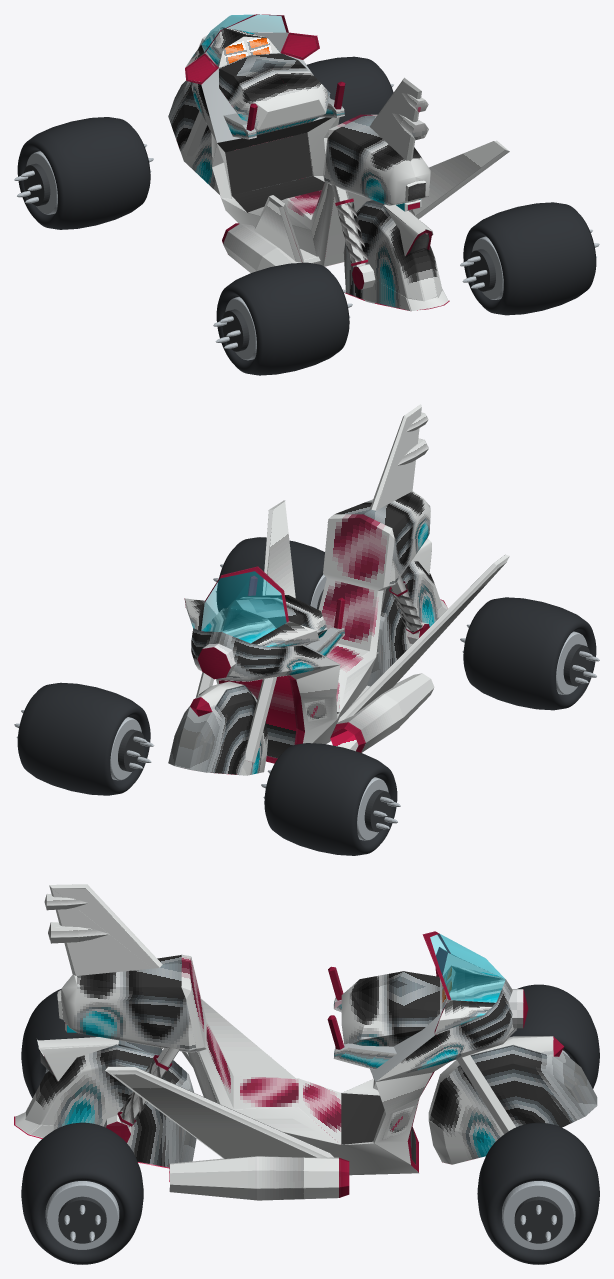
The model's file is car-hbike_v.glb.
The picture shows the model from 3 angles, top to bottom: view 1: azimuth 30°, elevation 25°; view 2: azimuth 150°, elevation 25°; view 3: azimuth 270°, elevation 25°; orthographic projection. The views are drawn at different scales.
Parts seen in each view (by area): view 1: hbike_vShape, Rounded tire.115, Rounded tire.114, Rounded tire.113, TrunkRotShape.015, Rounded tire.112, HoodRotShape.017, HoodRotShape.018, Rim recess.228, Rim recess.226, Rim recess.230, Alloy rim.115 (+3 smaller); view 2: hbike_vShape, Rounded tire.114, Rounded tire.112, Rounded tire.113, HoodRotShape.017, HoodRotShape.018, TrunkRotShape.015, Rounded tire.115, Rim recess.224, Rim recess.228, Rim recess.226, Alloy rim.114 (+2 smaller); view 3: hbike_vShape, TrunkRotShape.015, Rounded tire.115, Rounded tire.112, HoodRotShape.017, Rounded tire.113, HoodRotShape.018, Rounded tire.114, Alloy rim.115, Alloy rim.112, Rim recess.231, Rim recess.225.
Boxes of the visible parts, x1,y1,x2,y2 form: hbike_vShape: (168, 27, 509, 289); Rounded tire.115: (463, 202, 596, 315); Rounded tire.114: (216, 262, 349, 375); Rounded tire.113: (17, 117, 150, 229); TrunkRotShape.015: (343, 200, 449, 311); Rounded tire.112: (307, 56, 393, 124); HoodRotShape.017: (185, 14, 319, 100); HoodRotShape.018: (201, 14, 285, 51); Rim recess.228: (222, 309, 249, 351); Rim recess.226: (23, 163, 50, 206); Rim recess.230: (469, 249, 495, 291); Alloy rim.115: (472, 236, 503, 299); hbike_vShape: (168, 404, 509, 775); Rounded tire.114: (463, 597, 596, 710); Rounded tire.112: (17, 682, 150, 795); Rounded tire.113: (264, 743, 397, 855); HoodRotShape.017: (184, 566, 319, 681); HoodRotShape.018: (201, 571, 286, 642); TrunkRotShape.015: (367, 538, 448, 686); Rounded tire.115: (216, 537, 324, 611); Rim recess.224: (118, 729, 144, 771); Rim recess.228: (563, 644, 590, 686); Rim recess.226: (364, 789, 391, 832); Alloy rim.114: (556, 631, 587, 694); hbike_vShape: (44, 884, 597, 1200); TrunkRotShape.015: (14, 1037, 196, 1168); Rounded tire.115: (21, 1122, 143, 1264); Rounded tire.112: (477, 1122, 599, 1264); HoodRotShape.017: (422, 931, 528, 1061); Rounded tire.113: (510, 984, 599, 1088); HoodRotShape.018: (430, 933, 504, 1002); Rounded tire.114: (21, 989, 98, 1097); Alloy rim.115: (45, 1181, 119, 1249); Alloy rim.112: (502, 1181, 575, 1249); Rim recess.231: (58, 1196, 106, 1243); Rim recess.225: (514, 1196, 562, 1243).
Bounding box in the file's own units: 2.42 × 1.6 × 2.87.
6 materials, 3 textured.
